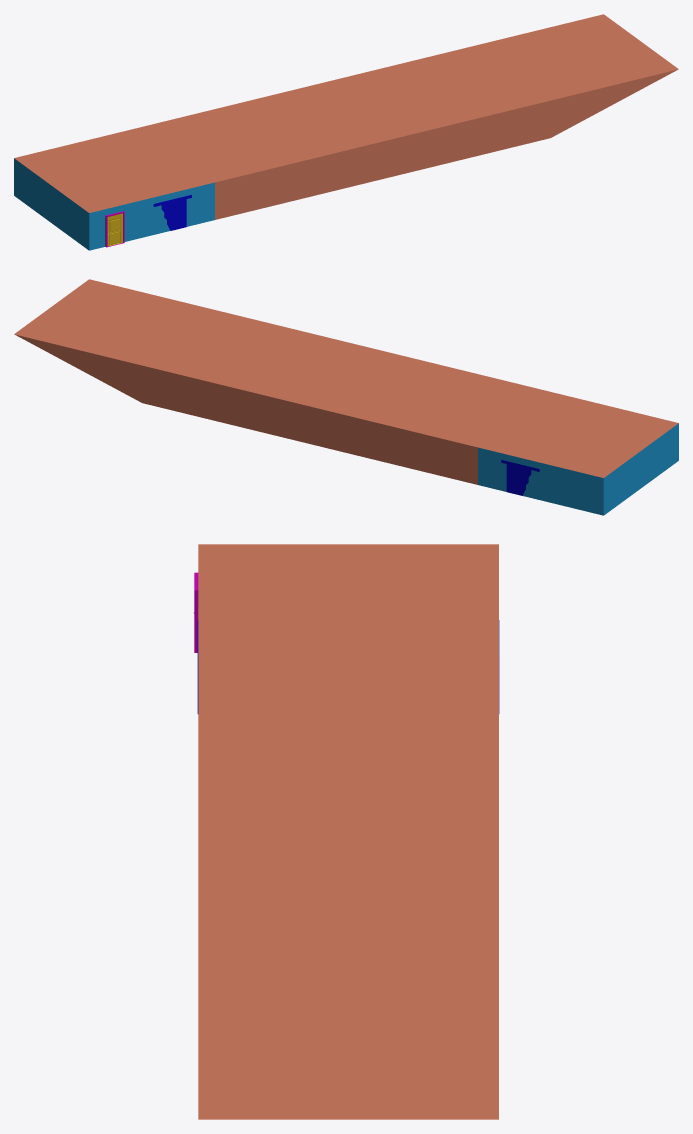
Rendered from ShootingRange.00.fbx.
The picture shows the model from 3 angles, top to bottom: view 1: azimuth 30°, elevation 25°; view 2: azimuth 150°, elevation 25°; view 3: azimuth 270°, elevation 25°; orthographic projection. The views are drawn at different scales.
Parts seen in each view (by area): view 1: Range (×2), Booths, Door; view 2: Range (×2), Booths; view 3: Range.
Part boxes in pixels (x1,y1,x2,y2): Range (×2): [14, 14, 678, 250]; Booths: [153, 195, 191, 230]; Door: [107, 213, 122, 246]; Range (×2): [14, 279, 678, 515]; Booths: [501, 460, 539, 495]; Range: [198, 544, 498, 1119].
Size of the model in its own units: 11500 by 701 by 2579.
